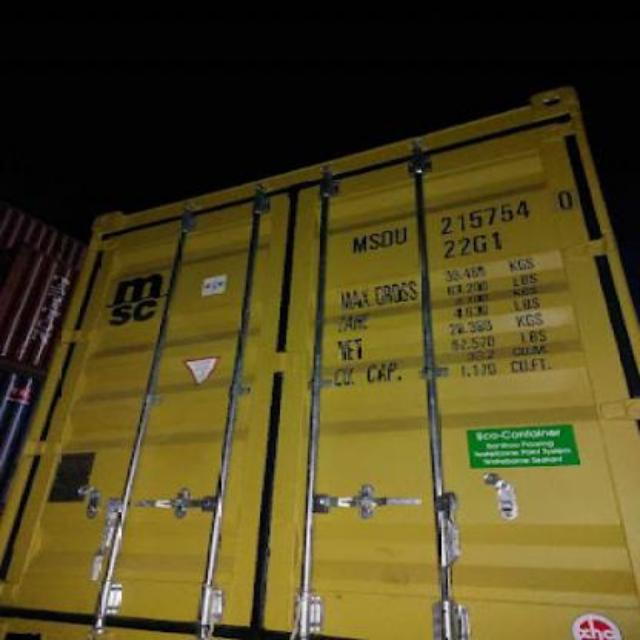0: (558, 191, 574, 209)
1: (454, 213, 468, 231)
2: (442, 214, 452, 236)
4: (514, 199, 530, 217)
5: (468, 209, 484, 227), (498, 205, 514, 223)
7: (484, 208, 500, 224)
D: (382, 231, 392, 247)
M: (352, 235, 366, 253)
S: (368, 233, 382, 249)
U: (396, 227, 408, 243)
